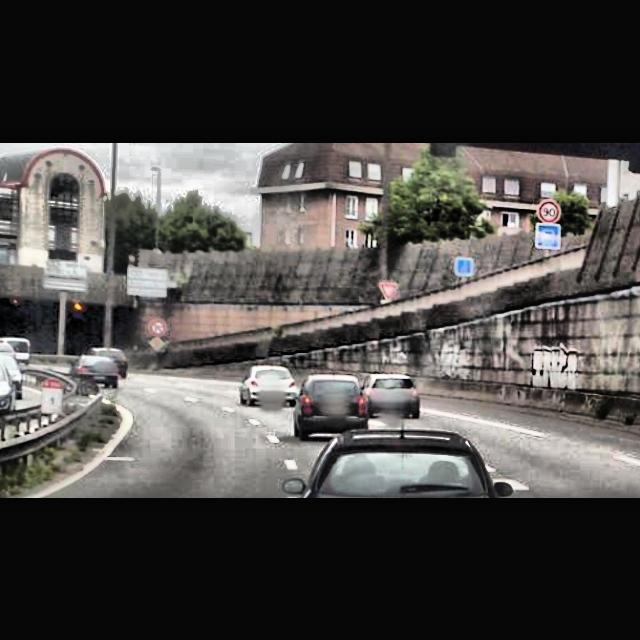speed_90: (537, 200, 561, 222)
